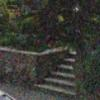stairs: (36, 50, 79, 94)
